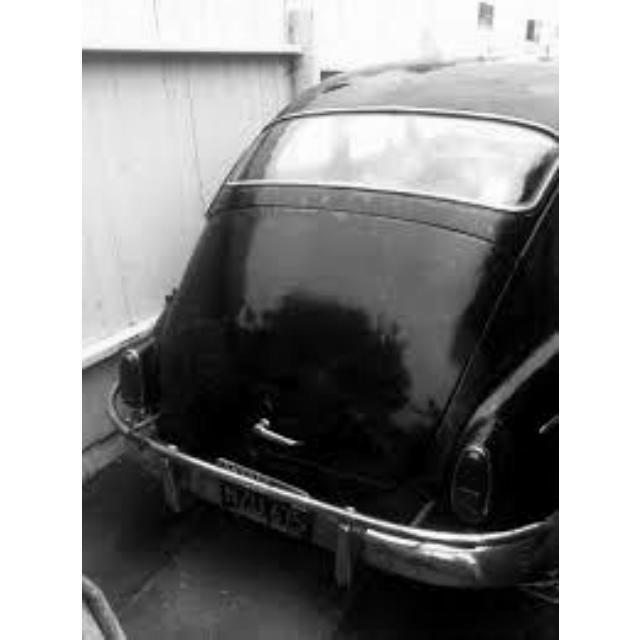rear-bumper-dent: (123, 402, 443, 566)
